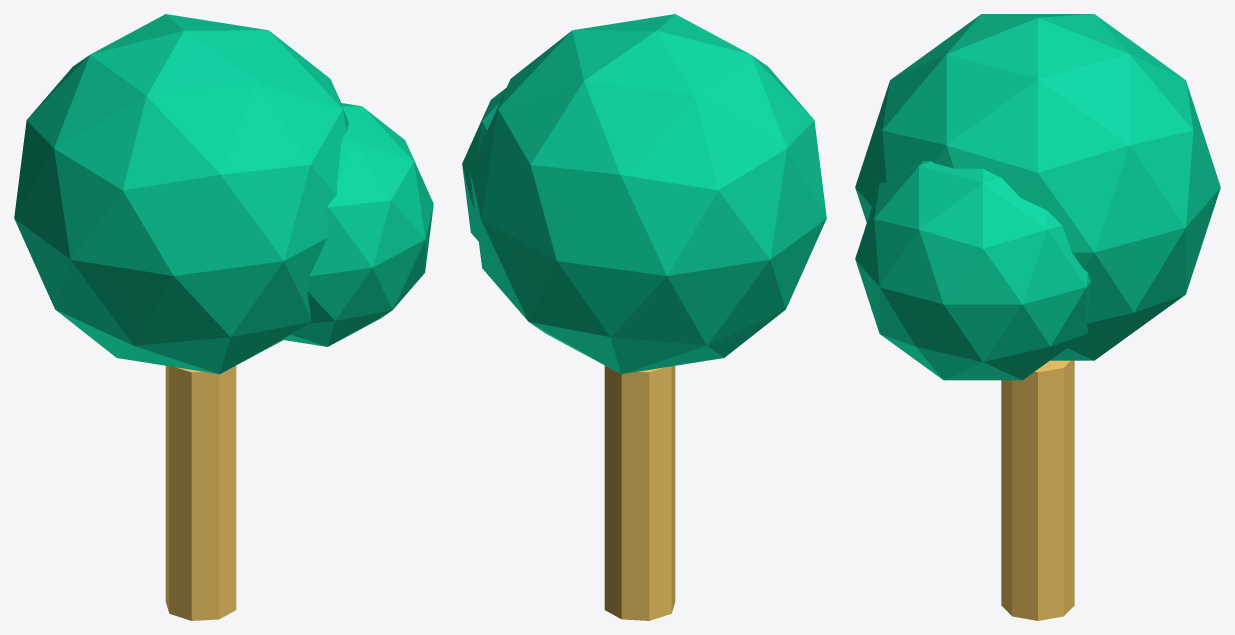
Rendered from built-tree.glb.
3 renders of one model, left to right at view 1: azimuth 30°, elevation 25°; view 2: azimuth 150°, elevation 25°; view 3: azimuth 270°, elevation 25°, orthographic.
Visible parts, largest first — view 1: canopy_mesh, root_mesh; view 2: canopy_mesh, root_mesh; view 3: canopy_mesh, root_mesh.
Boxes of the visible parts, x1,y1,x2,y2 form: canopy_mesh: (14,14,433,374); root_mesh: (165,366,236,620); canopy_mesh: (462,14,826,374); root_mesh: (604,365,675,620); canopy_mesh: (855,14,1220,380); root_mesh: (1001,360,1074,620).
Bounding box in the file's own units: 2.17 × 3.5 × 2.
